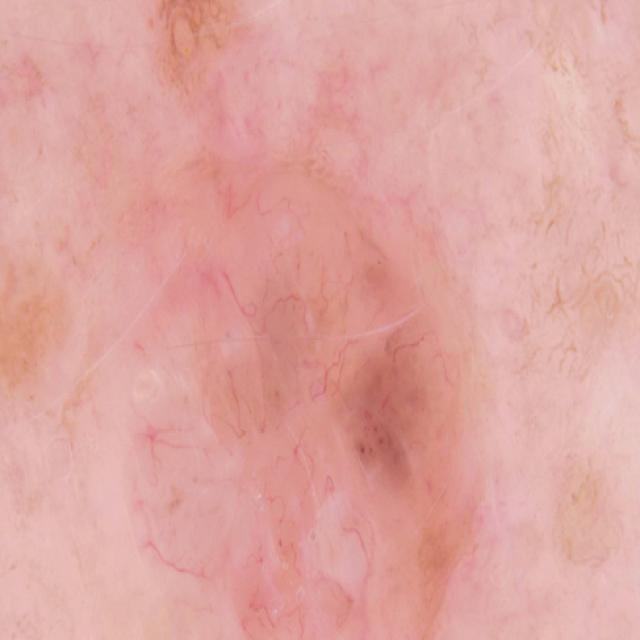Carcinoma: (107, 163, 534, 640)
